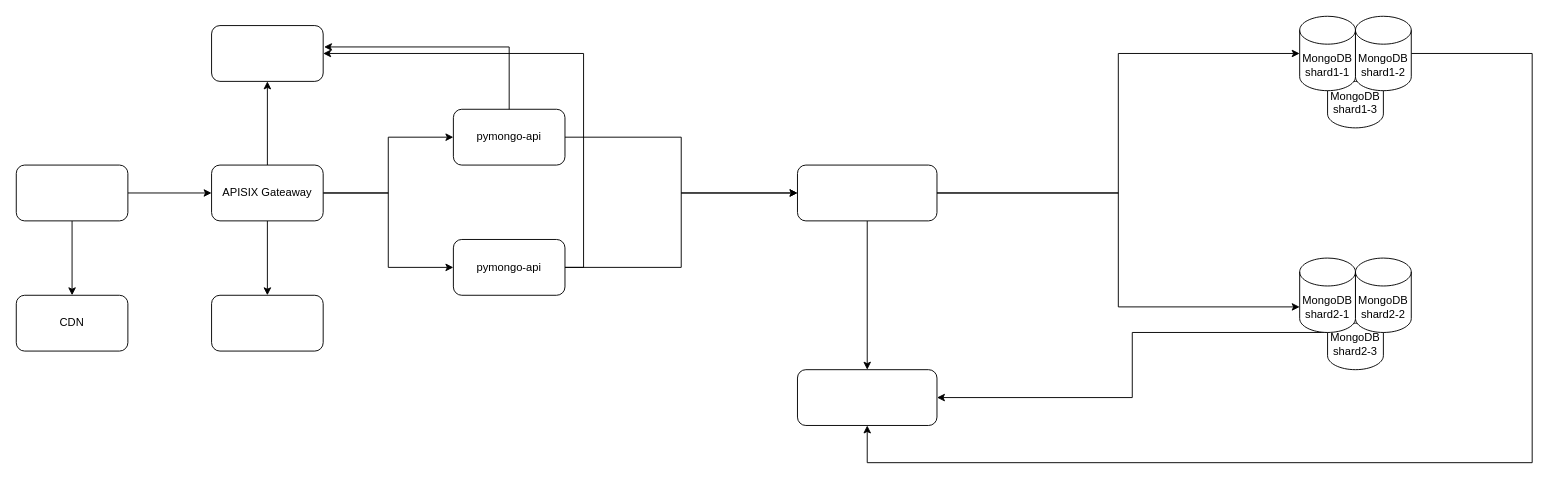
Image size: 1556x486. Some labels were removed from this diagram. The box of each missing label's shape, as (x1, y1, x2, y2) in pixels:
configSrv: (797, 369, 937, 425)
Consul: (211, 25, 323, 81)
mongos_router: (797, 164, 937, 221)
redis: (211, 294, 323, 351)
Пользовательское приложение: (15, 164, 128, 221)
